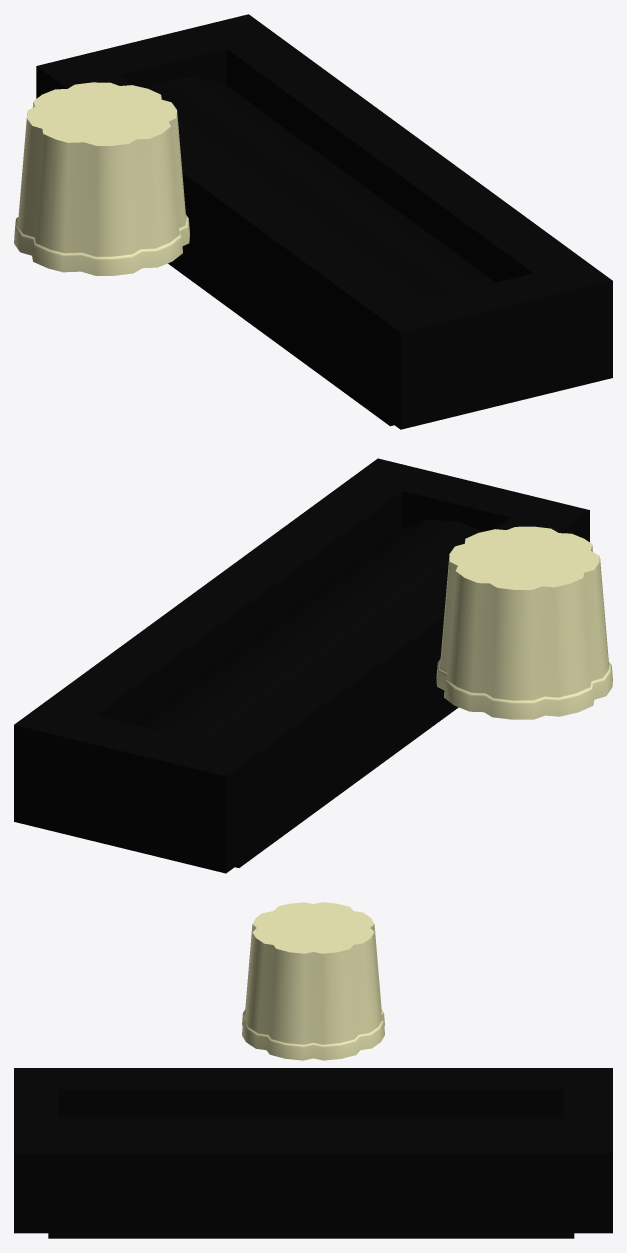
Rendered from Cabin_Altitude_Knob_&_Window_V1.fbx.
3 views of the same model, one above another, from view 1: azimuth 30°, elevation 25°; view 2: azimuth 150°, elevation 25°; view 3: azimuth 270°, elevation 25° (orthographic). The views are drawn at different scales.
Parts seen in each view (by area): view 1: Altitude_Window, Knob, Altitude_Readout; view 2: Altitude_Window, Knob, Altitude_Readout; view 3: Altitude_Window, Knob, Altitude_Readout.
Part boxes in pixels (x1,y1,x2,y2): Altitude_Window: (36, 14, 612, 429); Knob: (14, 82, 189, 275); Altitude_Readout: (148, 77, 495, 426); Altitude_Window: (14, 458, 589, 873); Knob: (436, 526, 612, 719); Altitude_Readout: (134, 519, 482, 867); Altitude_Window: (14, 1068, 612, 1233); Knob: (242, 902, 384, 1060); Altitude_Readout: (48, 1116, 574, 1238).
Bounding box in the file's own units: 4.24 × 2.26 × 6.62.
